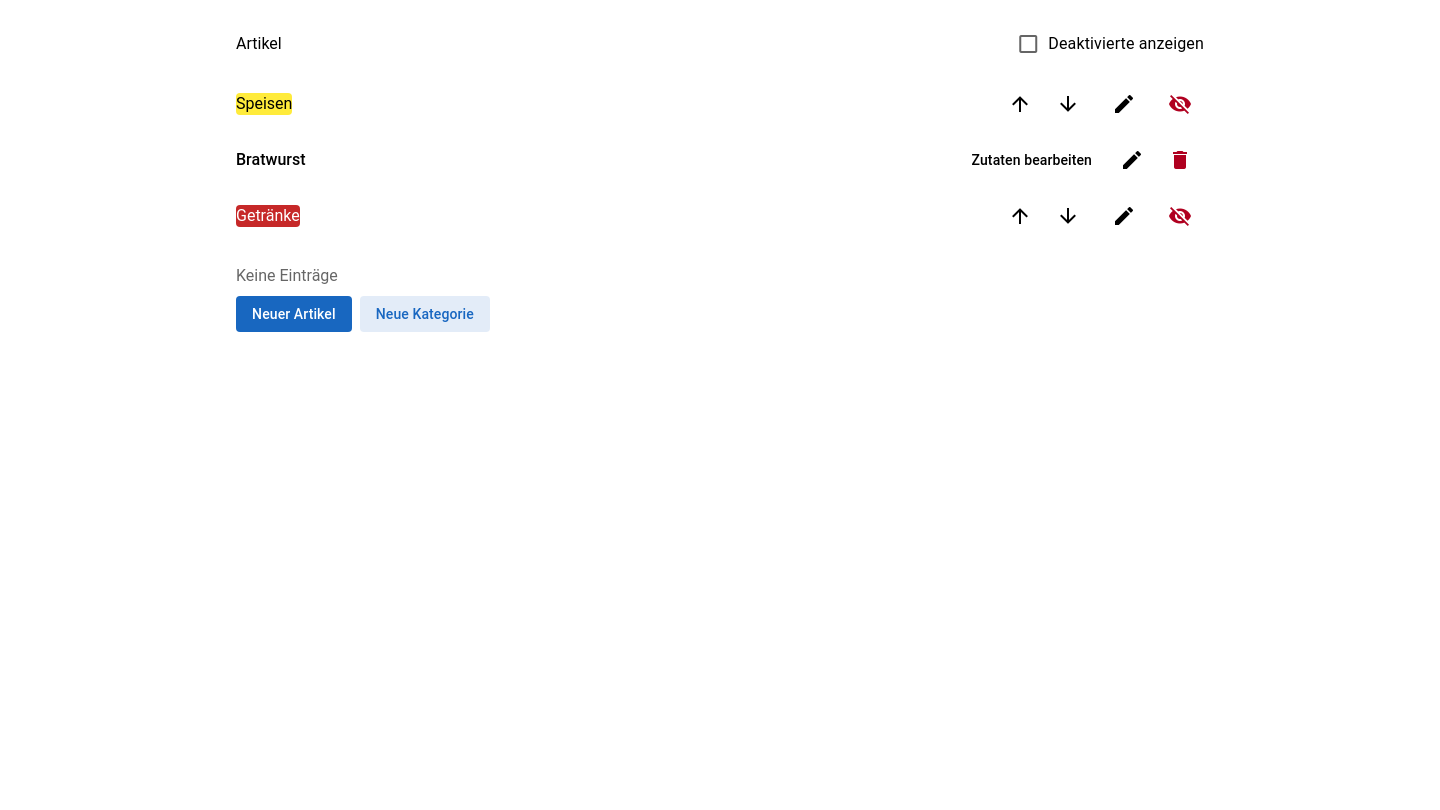
Scenario: the ingredients button on an article › opens the recipe of that article in German
Click the button with test id "edit-ingredients".
click(1032, 160)  # box [956,142,1108,178]
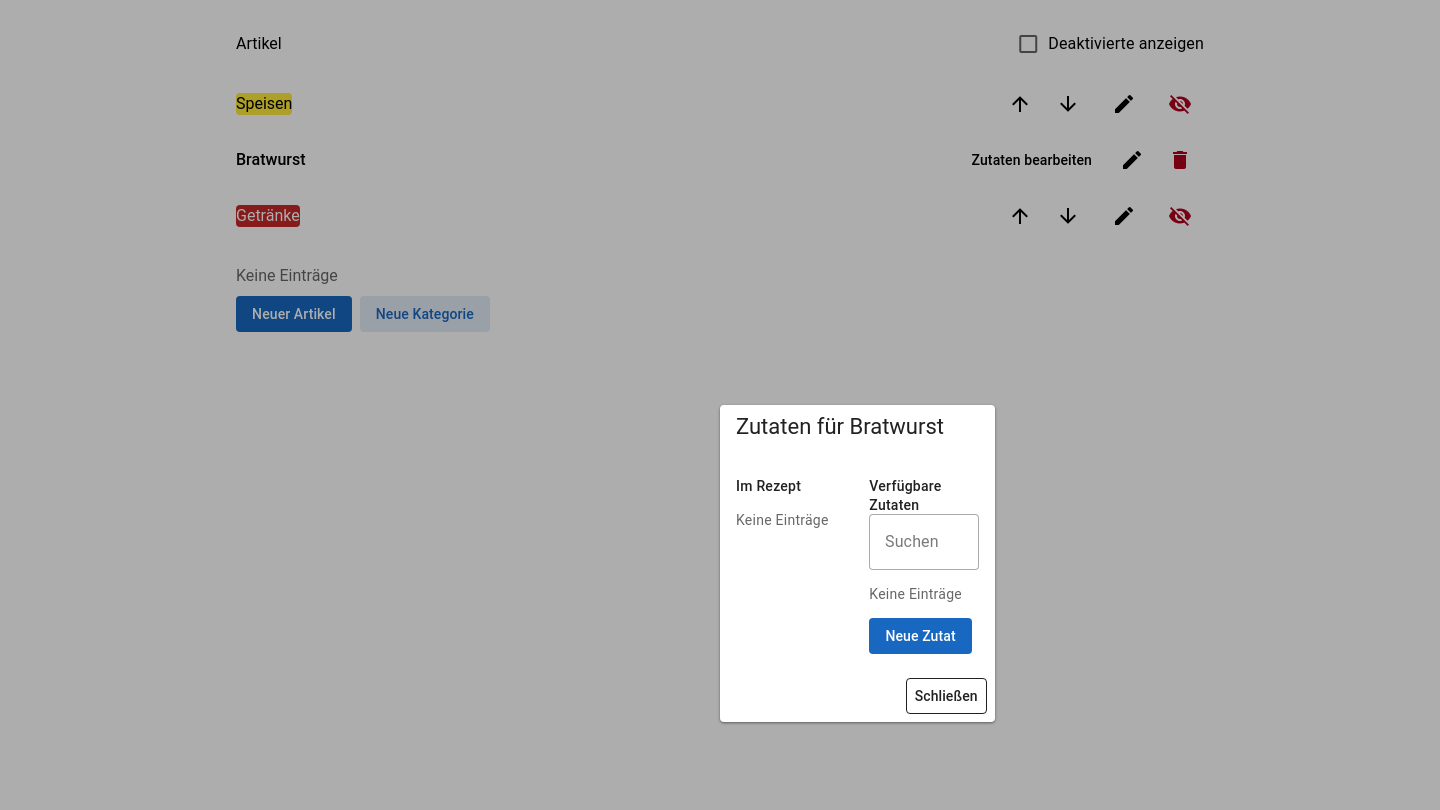
expect the text with test id "form-dialog-title" reads "Zutaten für Bratwurst": met, box [736,414,944,439]
